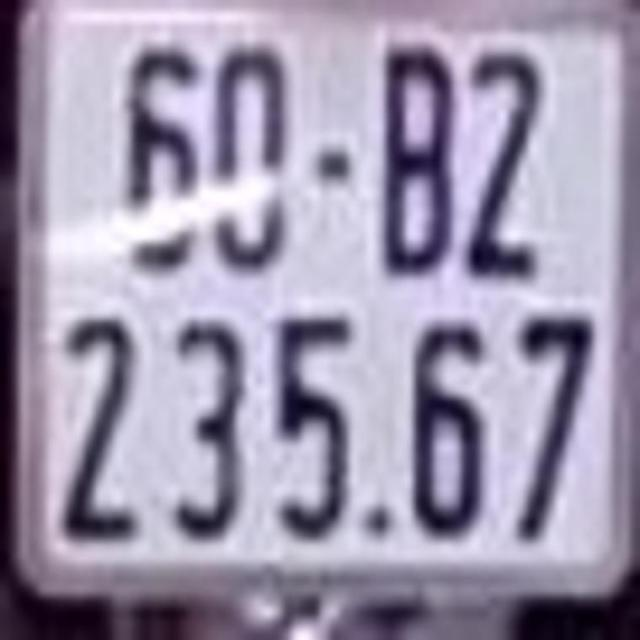0: (210, 39, 290, 272)
2: (467, 44, 542, 282), (62, 316, 138, 541)
3: (170, 313, 246, 541)
5: (273, 309, 354, 539)
6: (123, 43, 201, 274), (408, 313, 488, 537)
7: (512, 310, 596, 545)
B: (377, 41, 456, 280)
